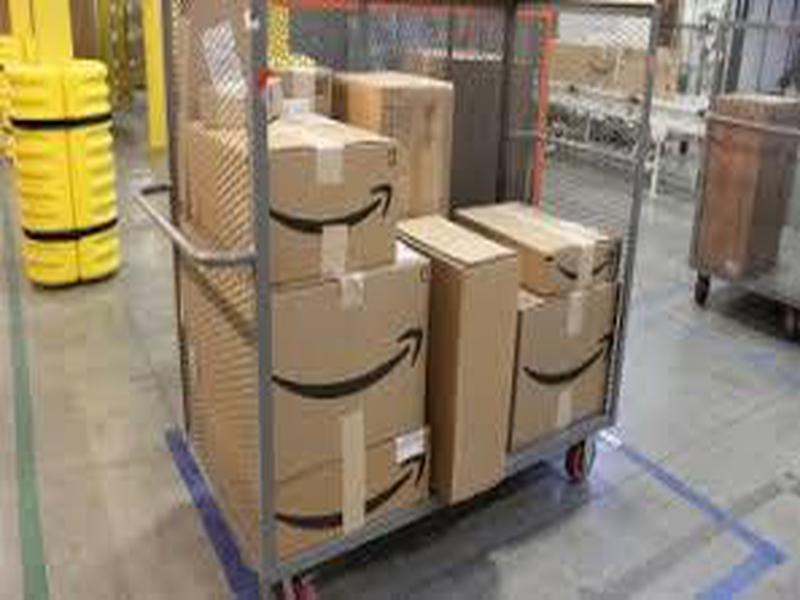package: (271, 256, 426, 482), (431, 211, 522, 506), (262, 136, 404, 288), (276, 427, 429, 558), (510, 285, 612, 454), (521, 194, 627, 300)
